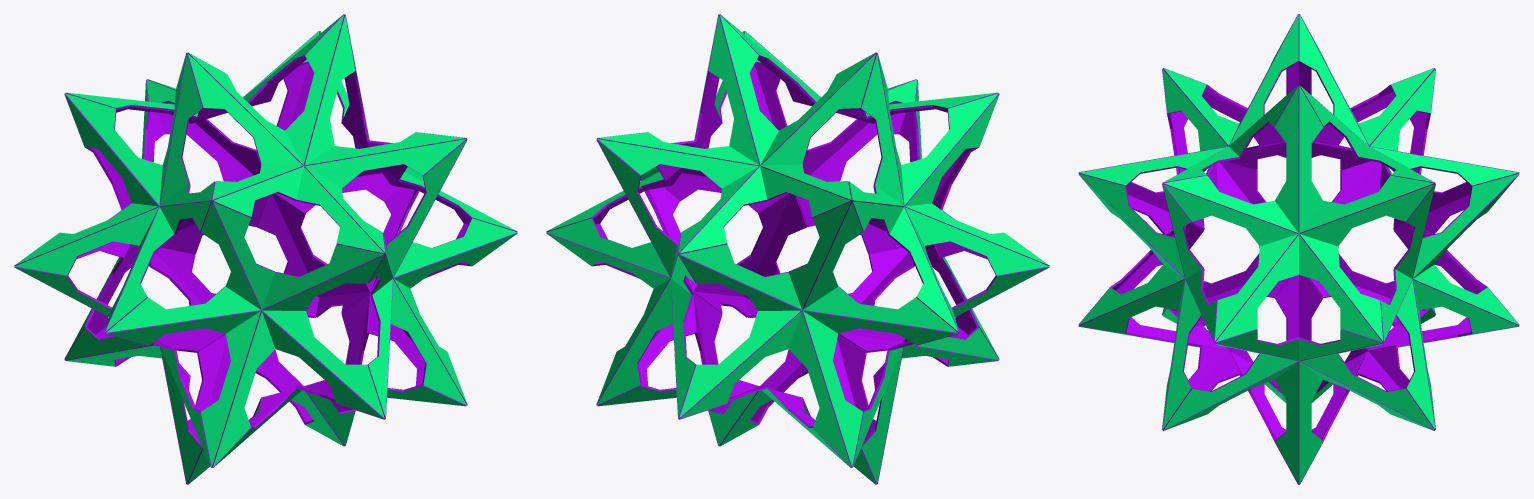
Rendered from GreatDodecicosacronS1.glb.
3 renders of one model, left to right at view 1: azimuth 30°, elevation 25°; view 2: azimuth 150°, elevation 25°; view 3: azimuth 270°, elevation 25°, orthographic. The views are drawn at different scales.
Visible parts, largest first — view 1: Mesh_1002_1, Mesh_1002; view 2: Mesh_1002_1, Mesh_1002; view 3: Mesh_1002_1, Mesh_1002.
Part boxes in pixels (x1,y1,x2,y2): Mesh_1002_1: (15, 15, 517, 484); Mesh_1002: (14, 14, 517, 484); Mesh_1002_1: (546, 15, 1048, 484); Mesh_1002: (546, 14, 1049, 484); Mesh_1002_1: (1079, 14, 1518, 484); Mesh_1002: (1078, 14, 1519, 484).
Bounding box in the file's own units: 10.15 × 10.15 × 10.15.
